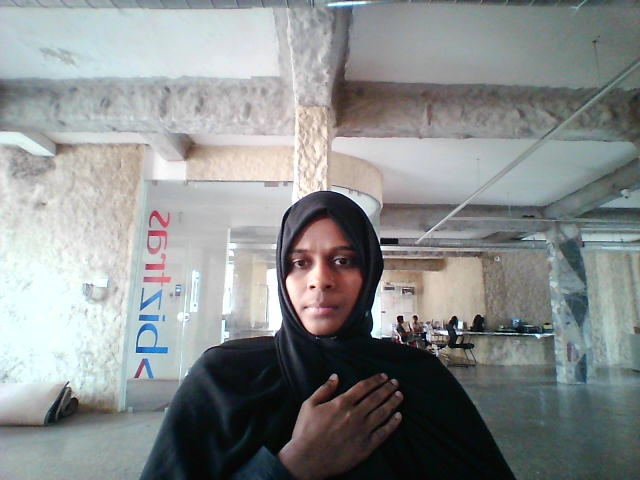PLEASE: (252, 366, 417, 480)
